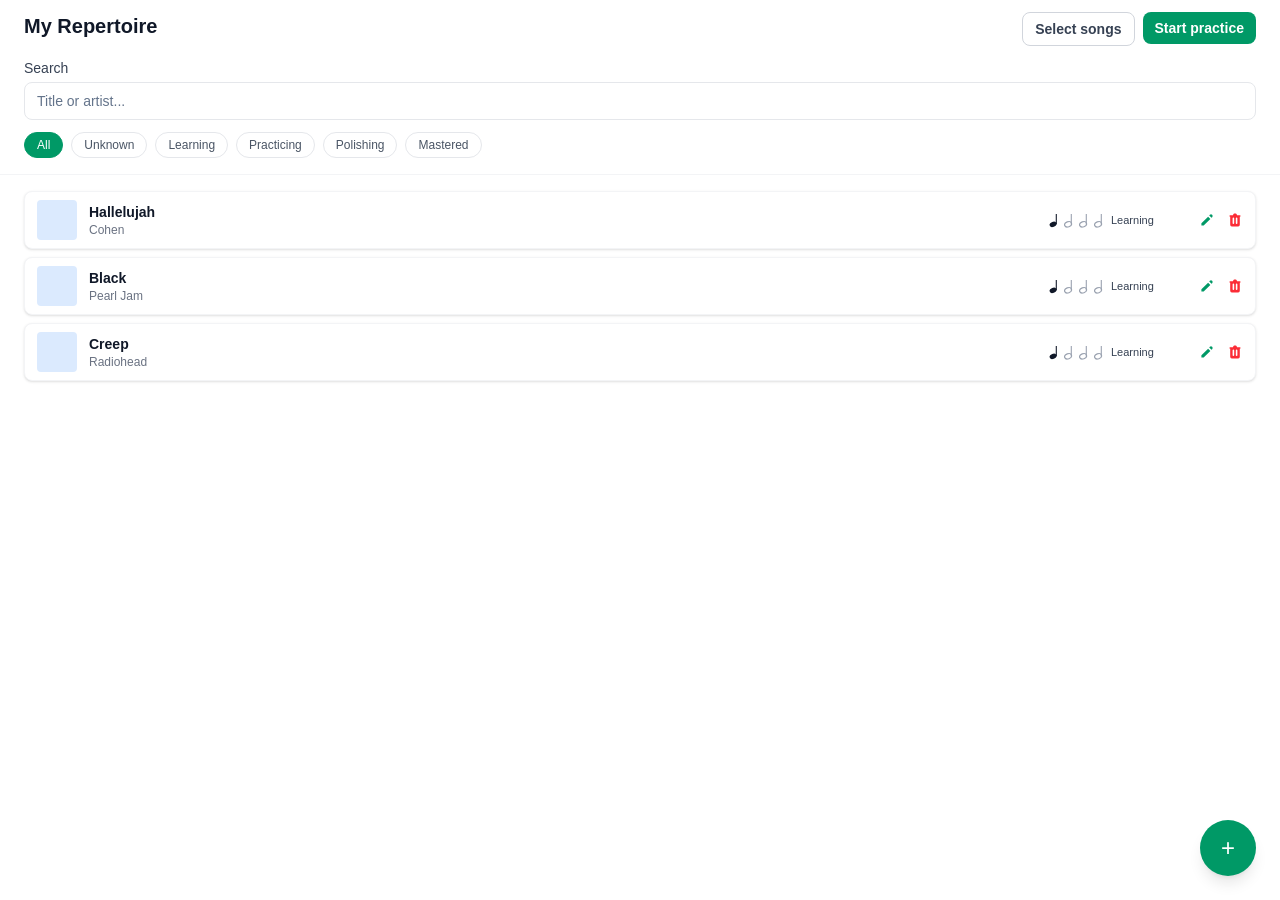
Test: RepertoireDashboard "Select songs" › keeps picks of rows hidden by a filter, and cancel leaves an existing queue alone
The image size is (1280, 900).
Check: the text "Hallelujah" is shown, box [89,204,155,220]
Click the button "Select songs" at {"x": 1078, "y": 29}, box [1022,12,1134,46]
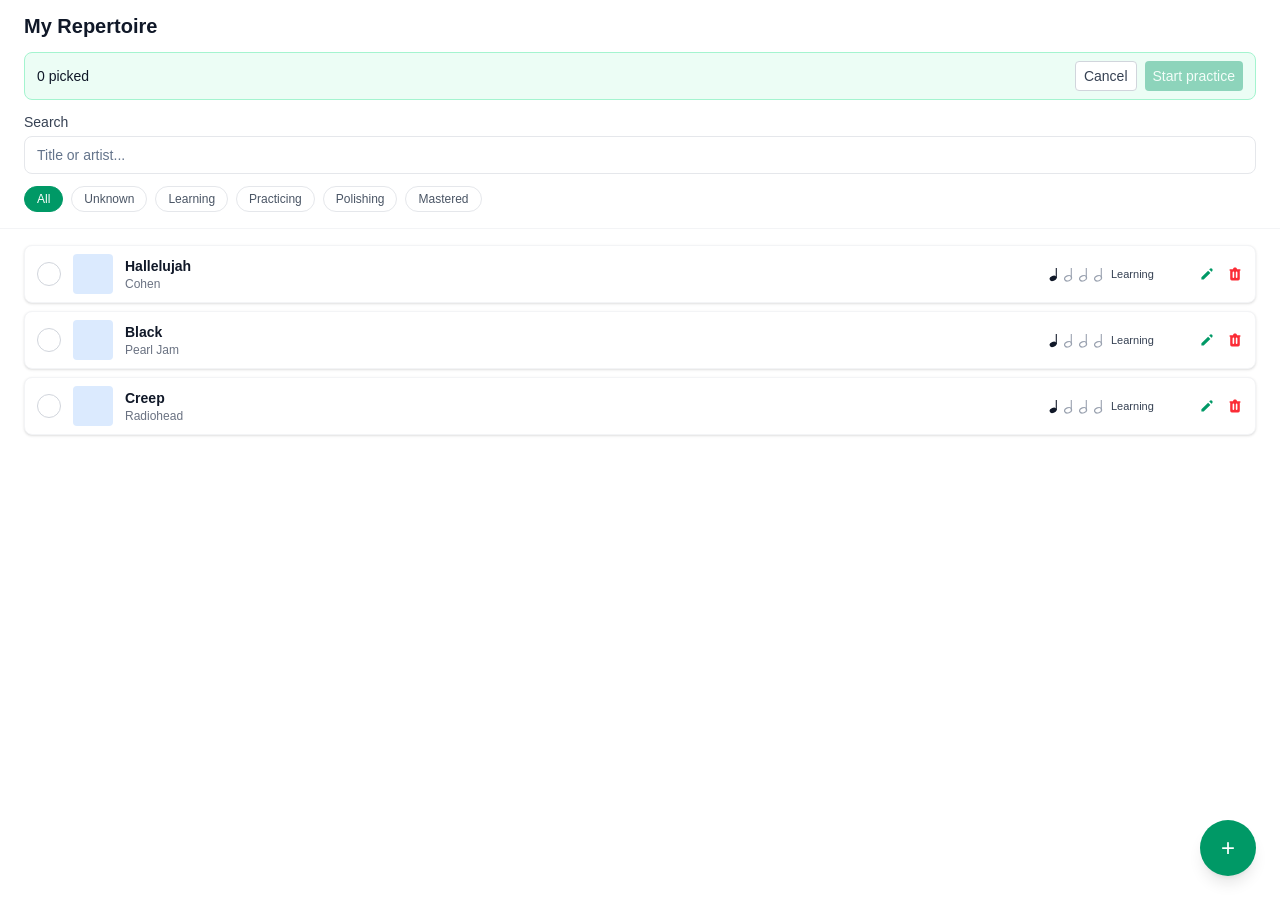
Click the text "Black" at {"x": 144, "y": 332}, box [125,324,162,340]
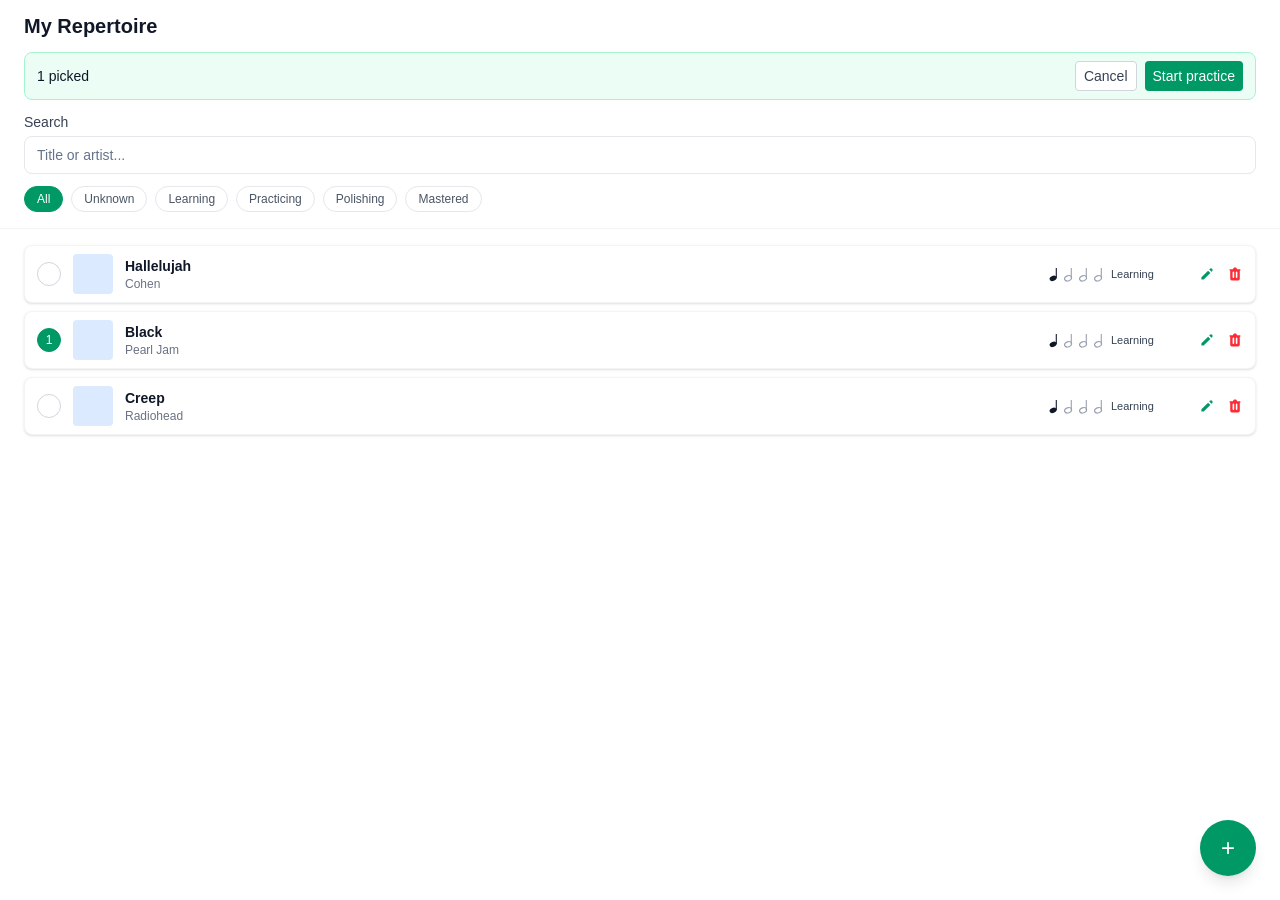
Type "Creep" into the search field labelled "Search" at {"x": 640, "y": 155}, box [24,136,1256,174]
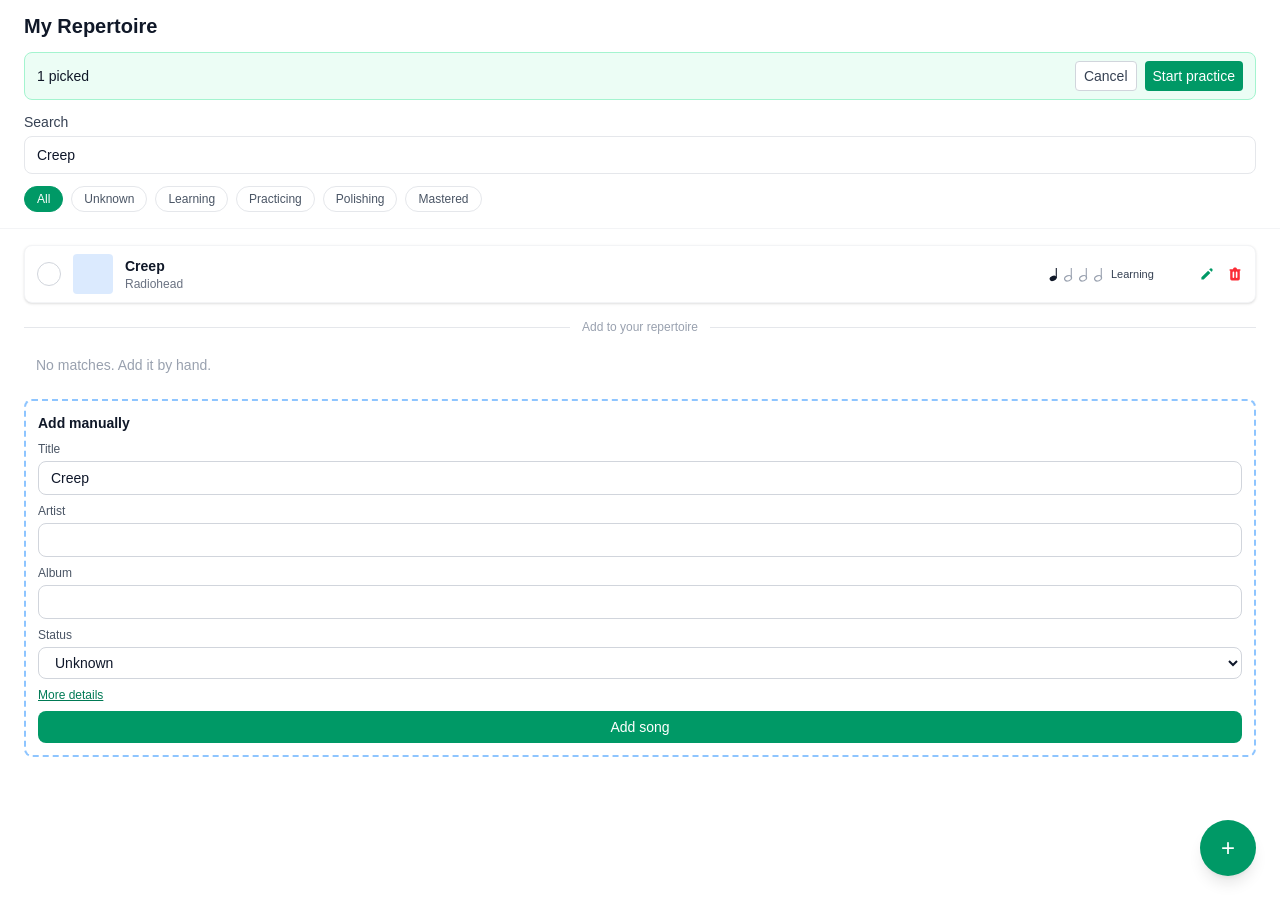
Check: the text "1 picked" is shown, box [37,66,89,86]
Check: the button "Black" is gone
Click the button "Cancel" at {"x": 1106, "y": 76}, box [1075,61,1136,91]
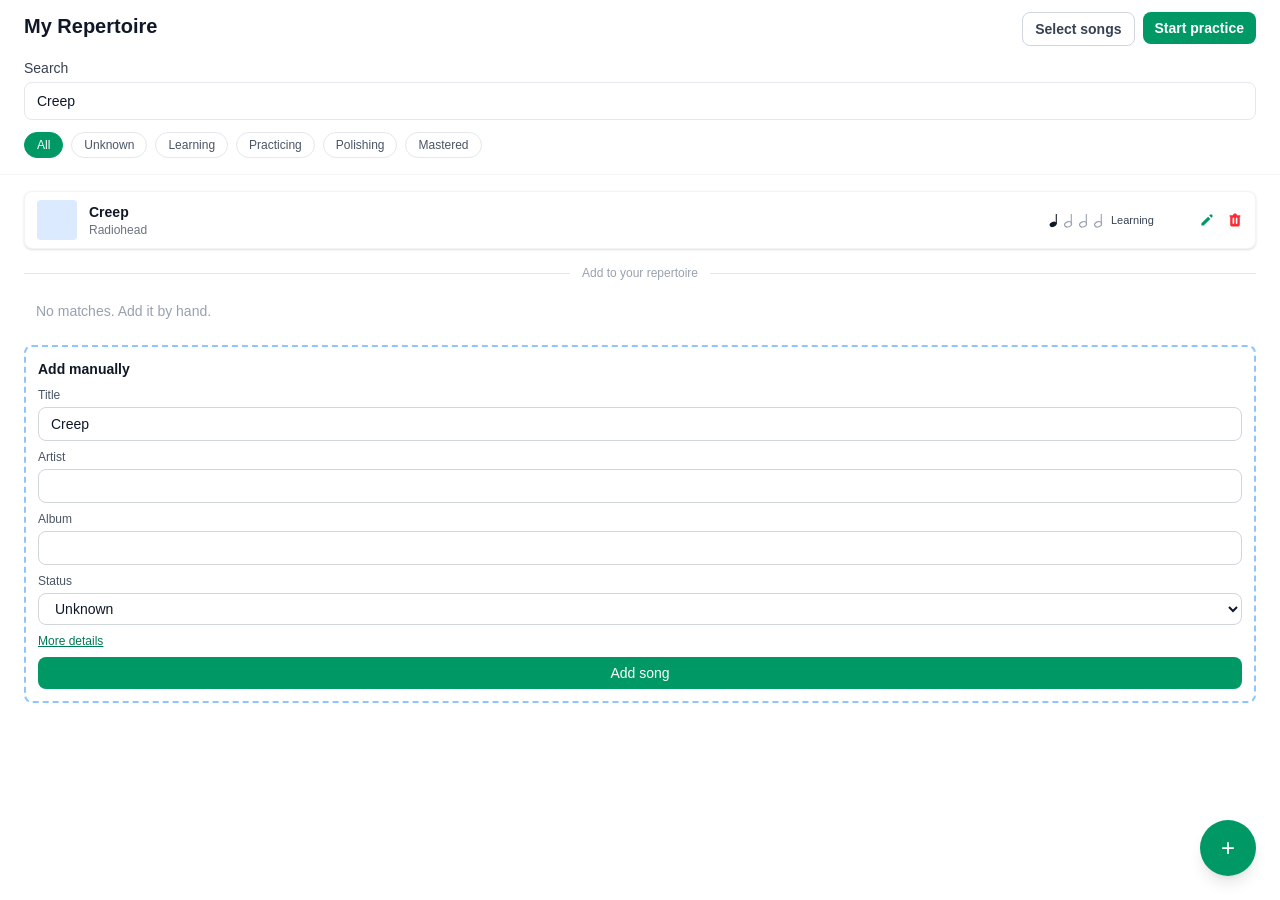
Check: the text "1 picked" is gone
